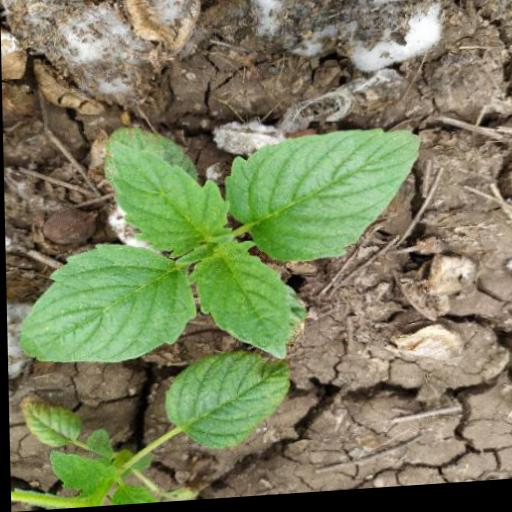crop: (2, 94, 425, 372), (6, 346, 317, 512)
